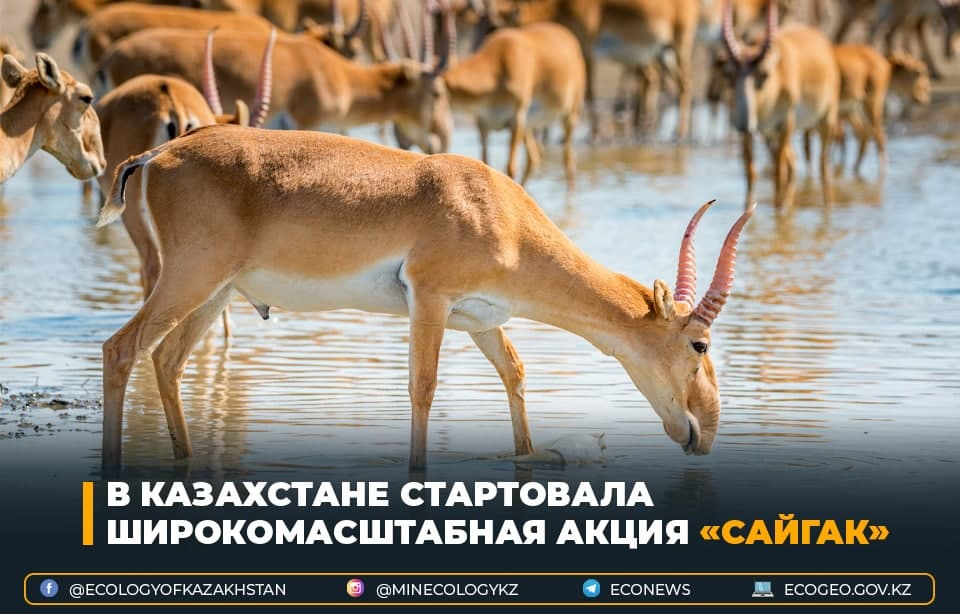saiga: (96, 125, 755, 470)
